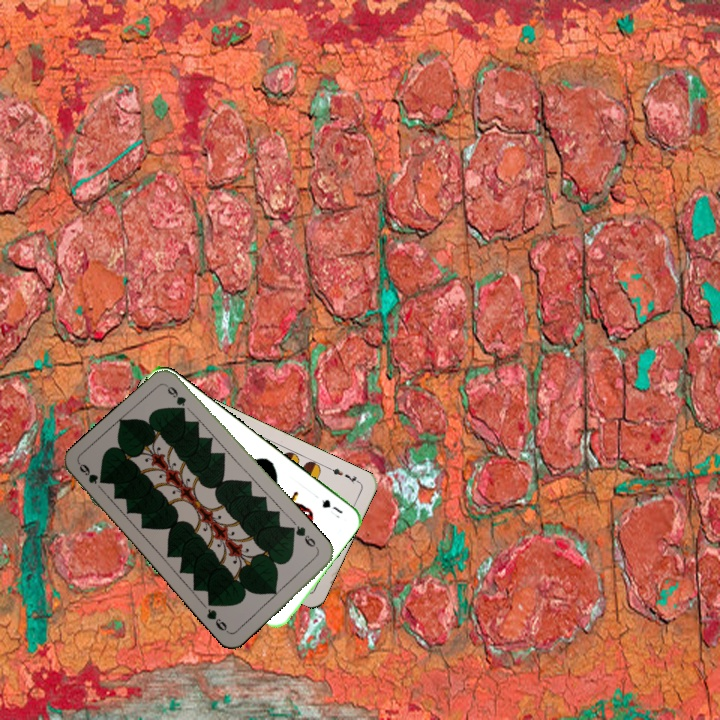E7: (324, 463, 362, 486)
G9: (288, 522, 321, 554), (75, 460, 107, 487)
GU: (318, 495, 345, 516)
